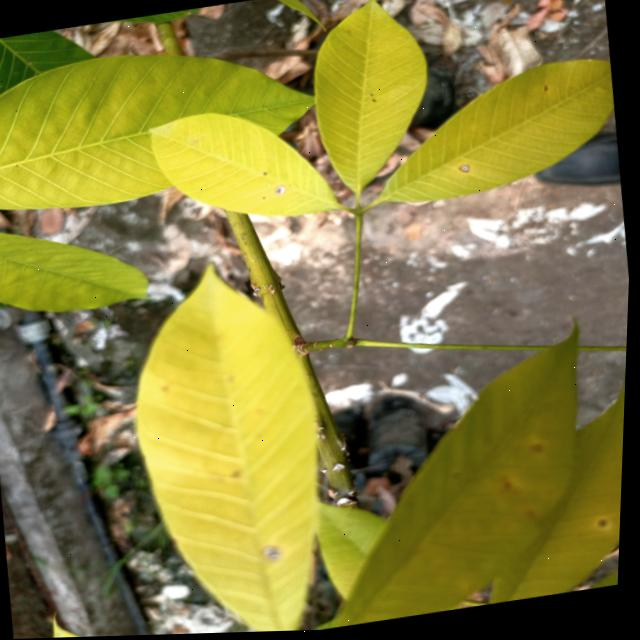Colletotrichum: (276, 185, 288, 196), (460, 166, 471, 175)
